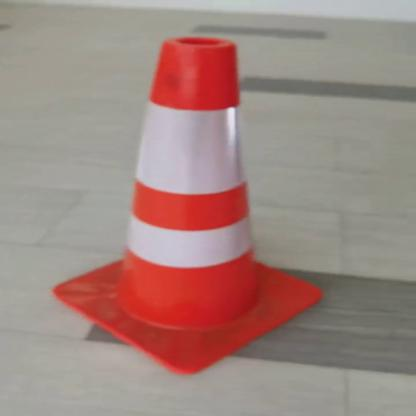cone: (64, 28, 368, 379)
